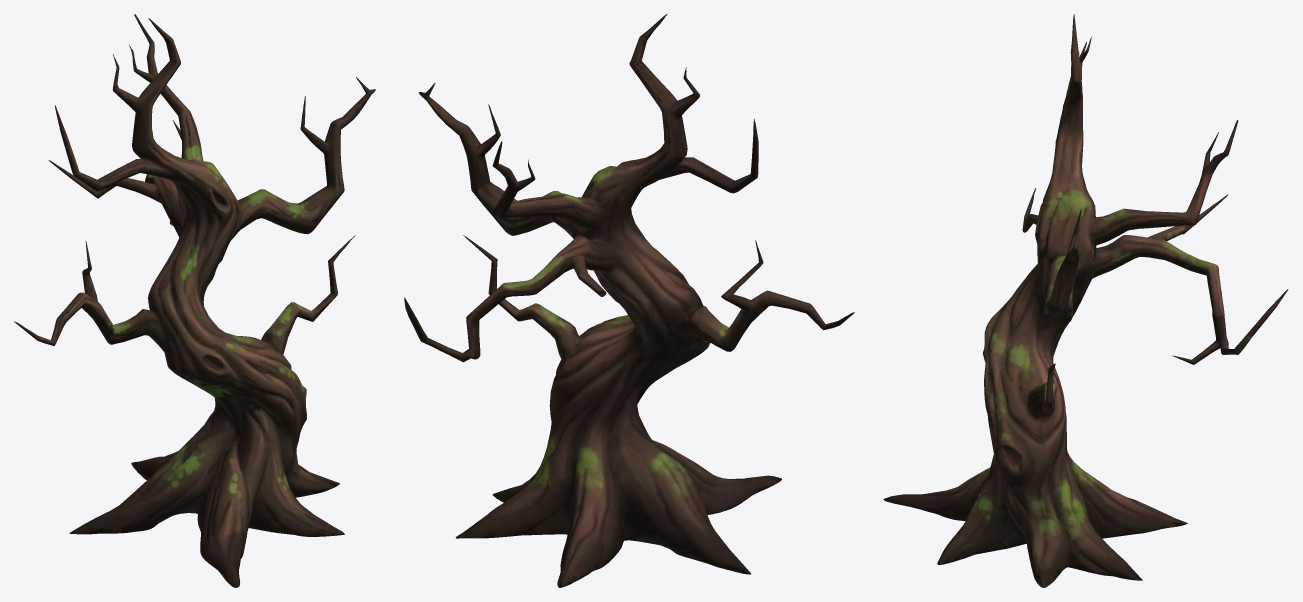
File: gnarled_tree.glb
3 renders of one model, left to right at view 1: azimuth 30°, elevation 25°; view 2: azimuth 150°, elevation 25°; view 3: azimuth 270°, elevation 25°, orthographic. The views are drawn at different scales.
Size of the model in its own units: 1.53 by 1.9 by 1.42.
1 material, 1 textured.
